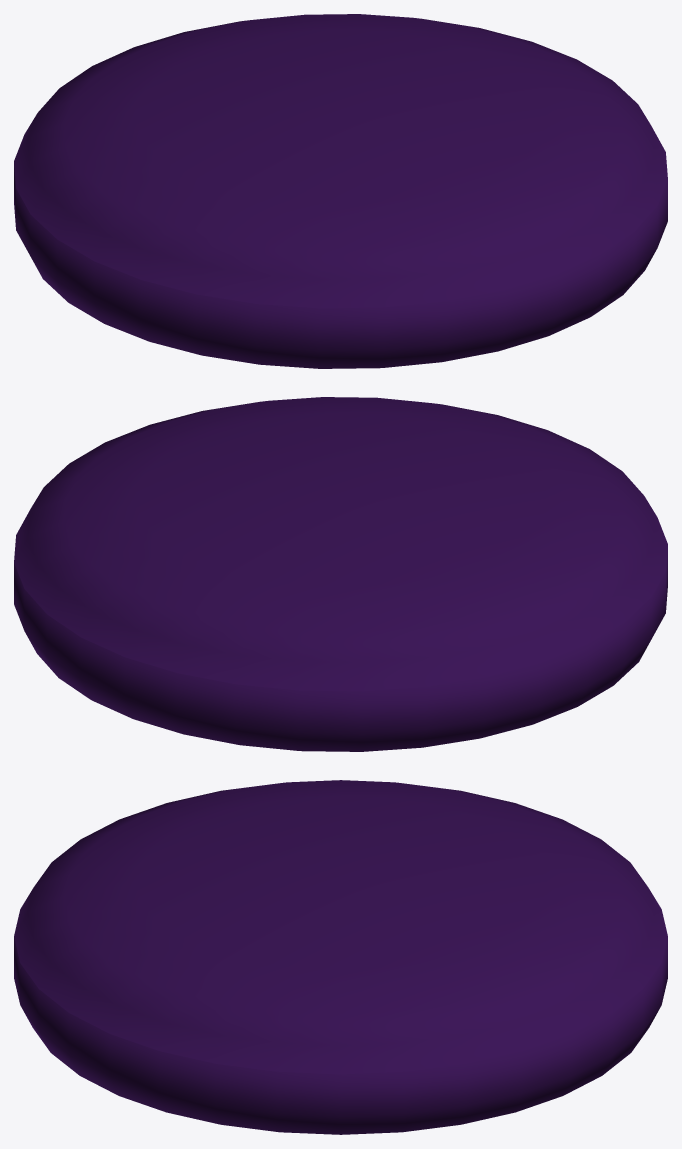
The model's file is Bouncer.glb.
3 renders of one model, top to bottom at view 1: azimuth 30°, elevation 25°; view 2: azimuth 150°, elevation 25°; view 3: azimuth 270°, elevation 25°, orthographic.
Parts seen in each view (by area): view 1: Model; view 2: Model; view 3: Model.
Boxes of the visible parts, <box> form: Model: <box>14,14,667,368</box>; Model: <box>14,397,667,751</box>; Model: <box>14,780,667,1134</box>.
Bounding box in the file's own units: 2 × 0.4742 × 2.
